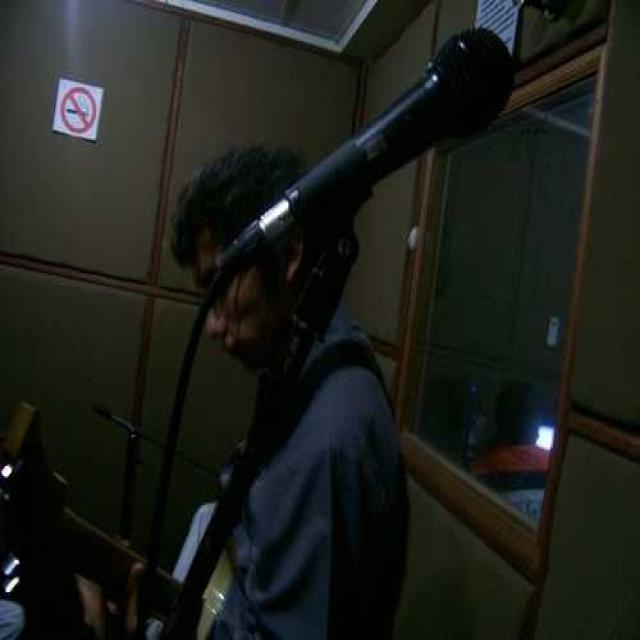microphone: (229, 25, 517, 288)
